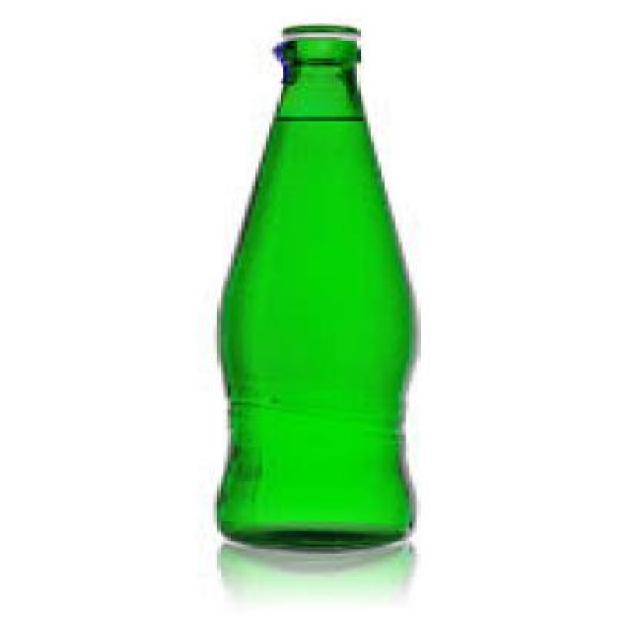kaca: (214, 26, 417, 554)
